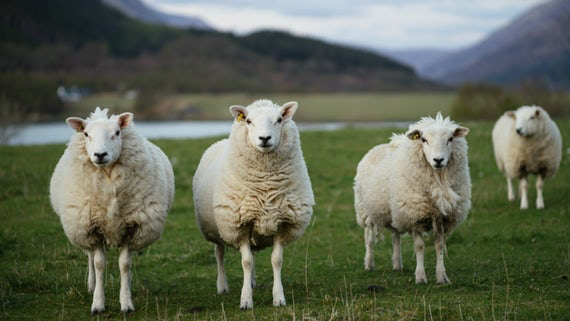koyun: (190, 99, 314, 309), (49, 109, 174, 314), (353, 113, 473, 284), (492, 106, 563, 211)
